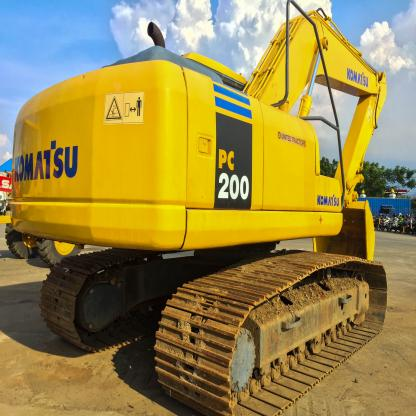excavator: (10, 7, 408, 416)
